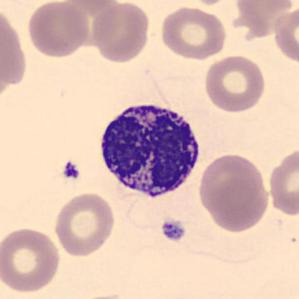Basophil: (94, 94, 205, 204)
Platelets: (160, 219, 186, 242), (60, 160, 82, 182)
RBC: (196, 150, 270, 230), (52, 190, 117, 259), (0, 225, 63, 294), (89, 0, 152, 64), (158, 4, 228, 61), (202, 52, 267, 113), (24, 0, 91, 59), (0, 3, 30, 93), (235, 0, 295, 41), (266, 144, 298, 218), (272, 8, 299, 67), (56, 0, 128, 12), (181, 0, 234, 7)
